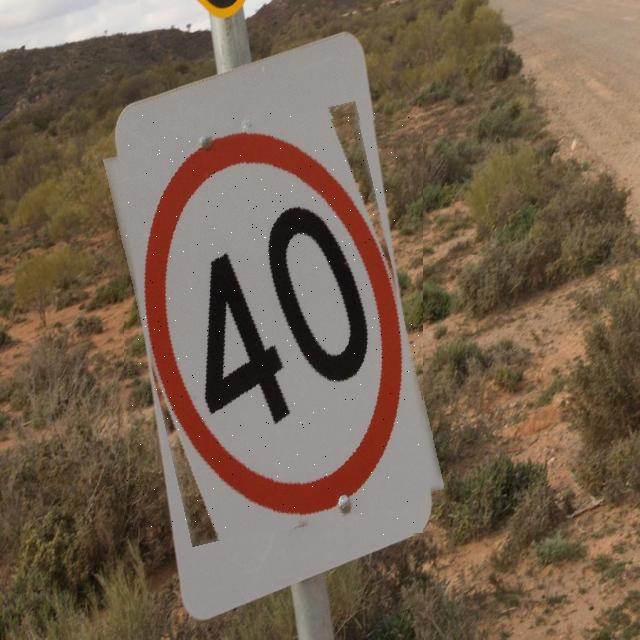speed limit 40: (124, 114, 423, 536)
